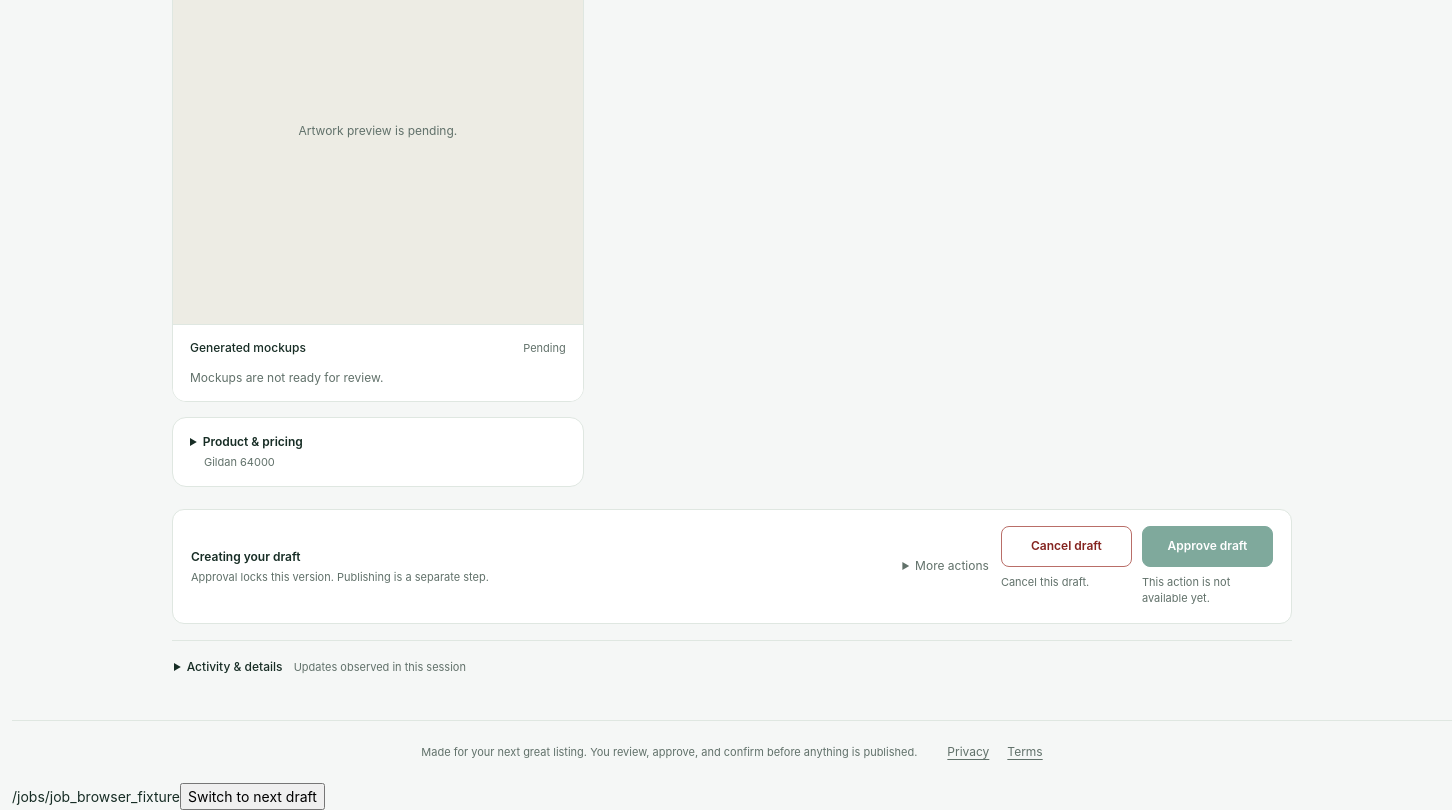
Test: draft cancellation › does not confirm or redirect after rejected request
The width and height of the screenshot is (1452, 810).
(page scrolled)
Click the button "Cancel draft". click: [1066, 546]
box: left=1001, top=526, right=1132, bottom=567
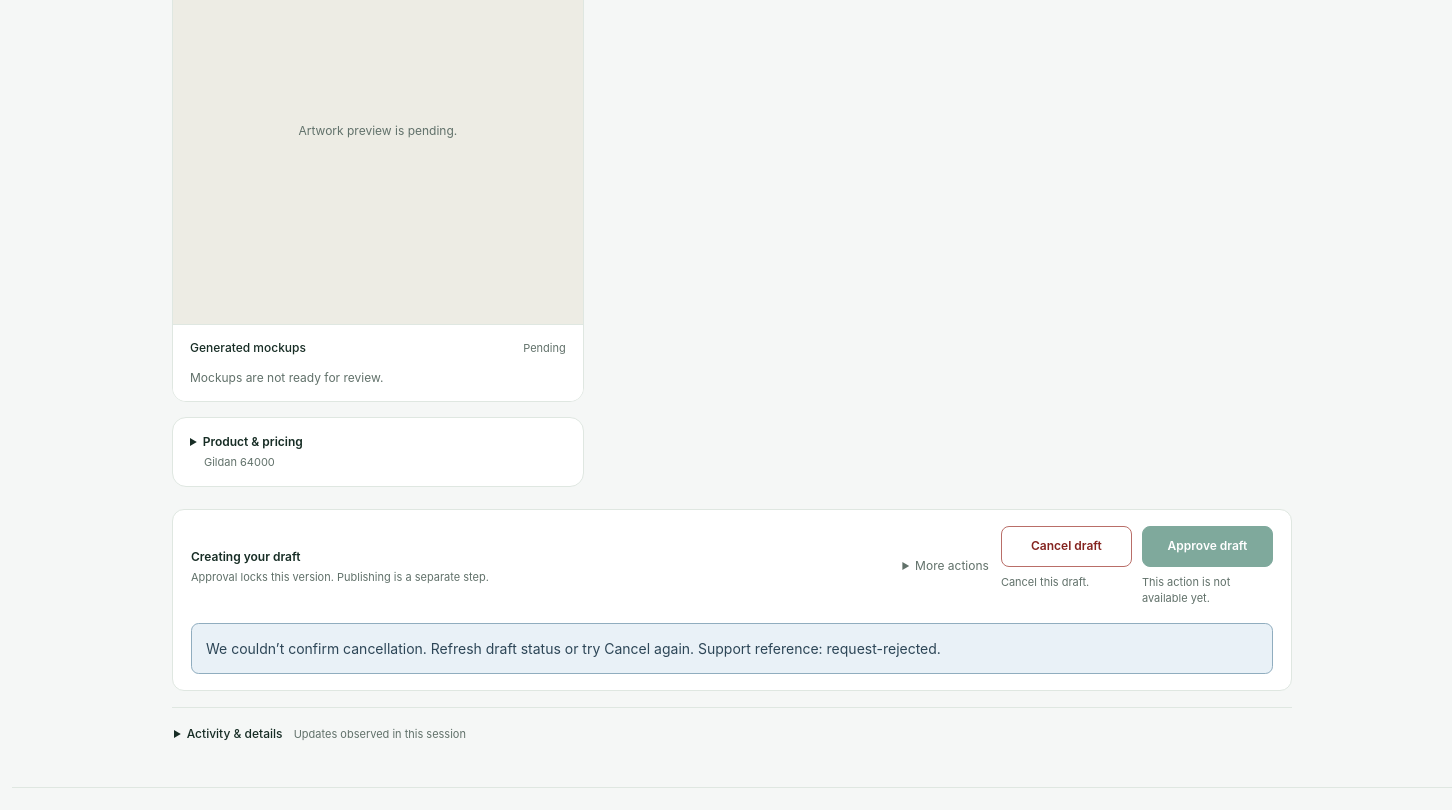
Expected: the text "We couldn’t confirm cancellation" is shown, left=206, top=640, right=694, bottom=657
